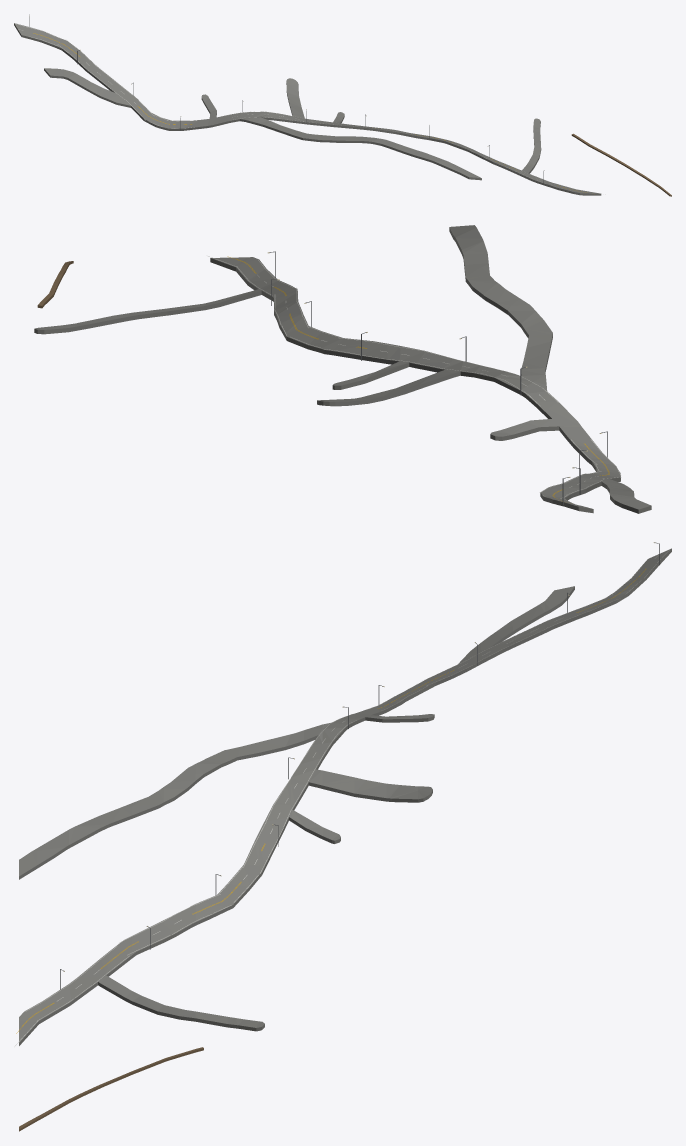
3 views of the same model, one above another, from view 1: azimuth 30°, elevation 25°; view 2: azimuth 150°, elevation 25°; view 3: azimuth 270°, elevation 25° (orthographic). The views are drawn at different scales.
Bounding box in the file's own units: 269 × 82.27 × 207.
